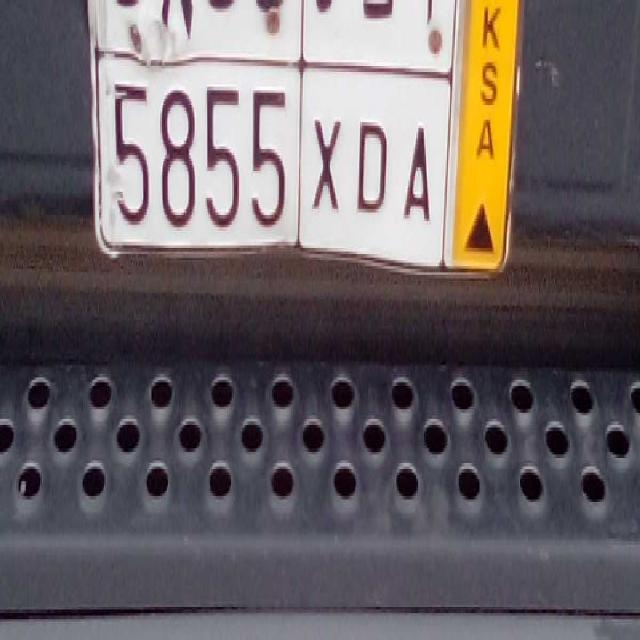license_plate: (102, 51, 441, 277)
